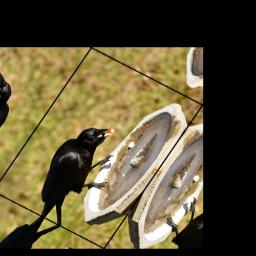Crow: (19, 113, 138, 232)
